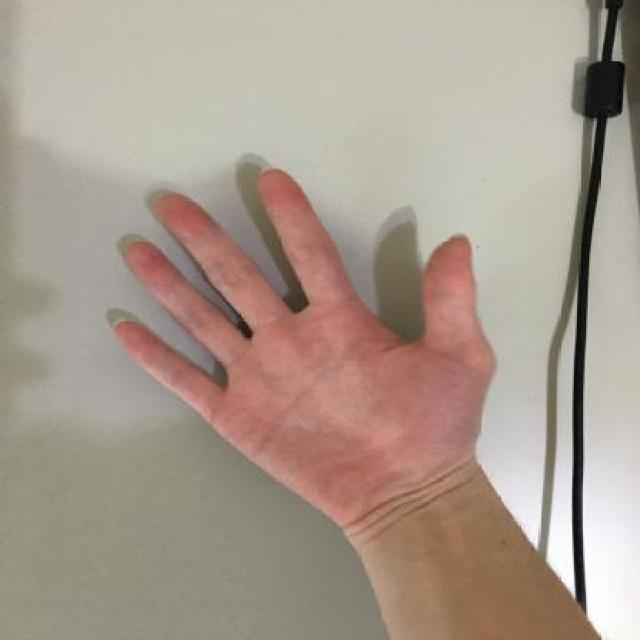bare_hand: (86, 157, 508, 545)
